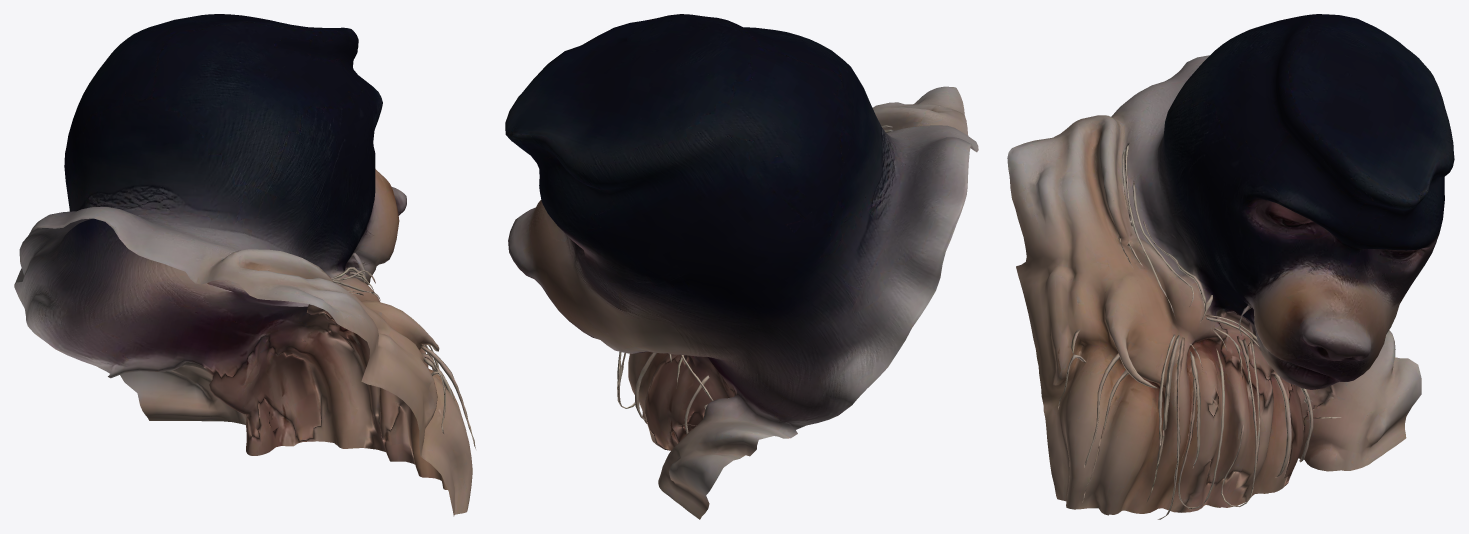
Rendered from masked-dog-npc.glb.
The picture shows the model from 3 angles, left to right: view 1: azimuth 30°, elevation 25°; view 2: azimuth 150°, elevation 25°; view 3: azimuth 270°, elevation 25°; orthographic projection. The views are drawn at different scales.
Visible parts, largest first — view 1: tripo_node_1b95f91a-7bd4-4275-ad39-c70b958e02c8; view 2: tripo_node_1b95f91a-7bd4-4275-ad39-c70b958e02c8; view 3: tripo_node_1b95f91a-7bd4-4275-ad39-c70b958e02c8.
Boxes of the visible parts, x1=… form: tripo_node_1b95f91a-7bd4-4275-ad39-c70b958e02c8: x1=14, y1=14, x2=475, y2=516; tripo_node_1b95f91a-7bd4-4275-ad39-c70b958e02c8: x1=505, y1=14, x2=978, y2=519; tripo_node_1b95f91a-7bd4-4275-ad39-c70b958e02c8: x1=1007, y1=14, x2=1454, y2=519.
Size of the model in its own units: 0.9684 by 0.998 by 0.9629.
1 material, 1 textured.
